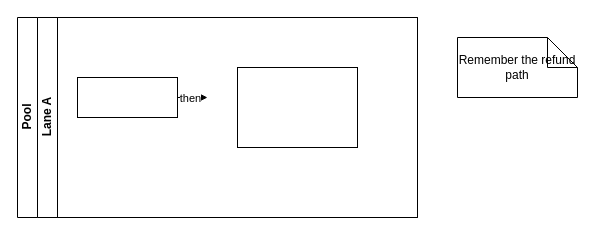
This 595x235 diagram has some shape labels left out. The shapes that lost their labels are listed below. From the top down, each one's box as (x1, y1, x2, y2) in pixels, then its label:
(76, 76, 178, 118): Pay now
(236, 66, 358, 148): Ship
